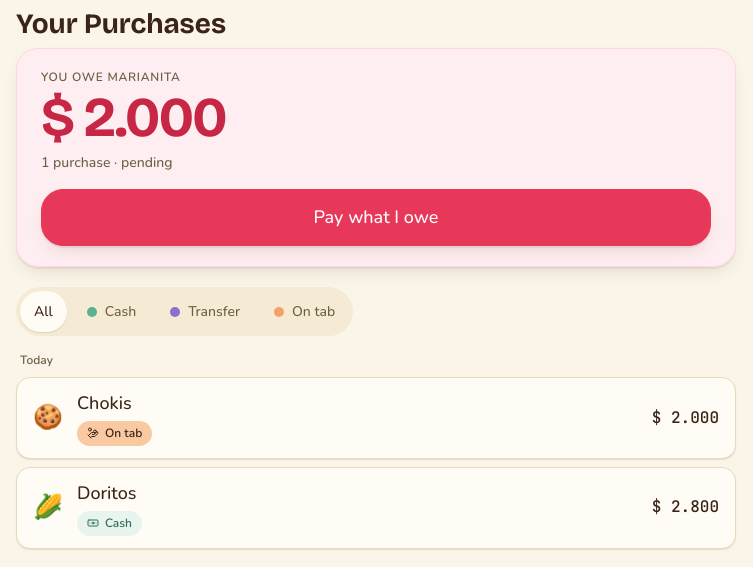
Test: MyPurchases — filtros › el filtro "On tab" muestra solo las compras fiadas
This screenshot has width=753, height=567.
Click the button "On tab".
click(305, 312)  # box [260,291,349,332]
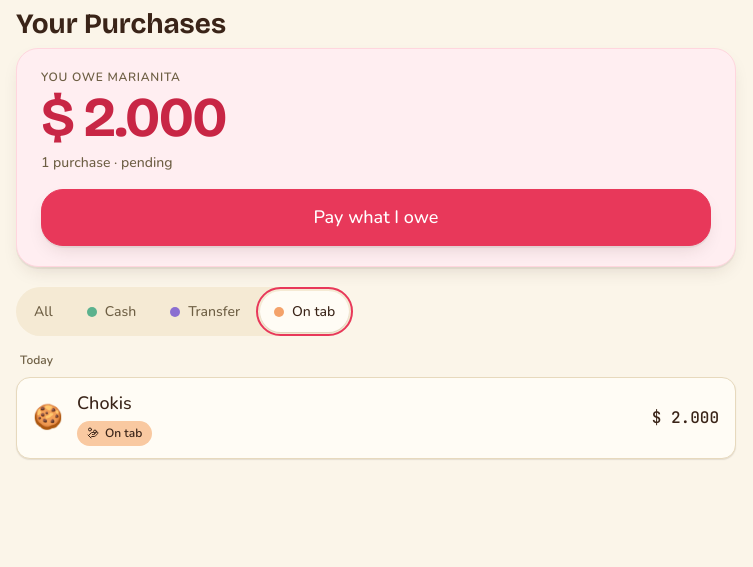
Expected: the text "Chokis" is shown, [77,390,132,417]
Expected: the text "Doritos" is gone
